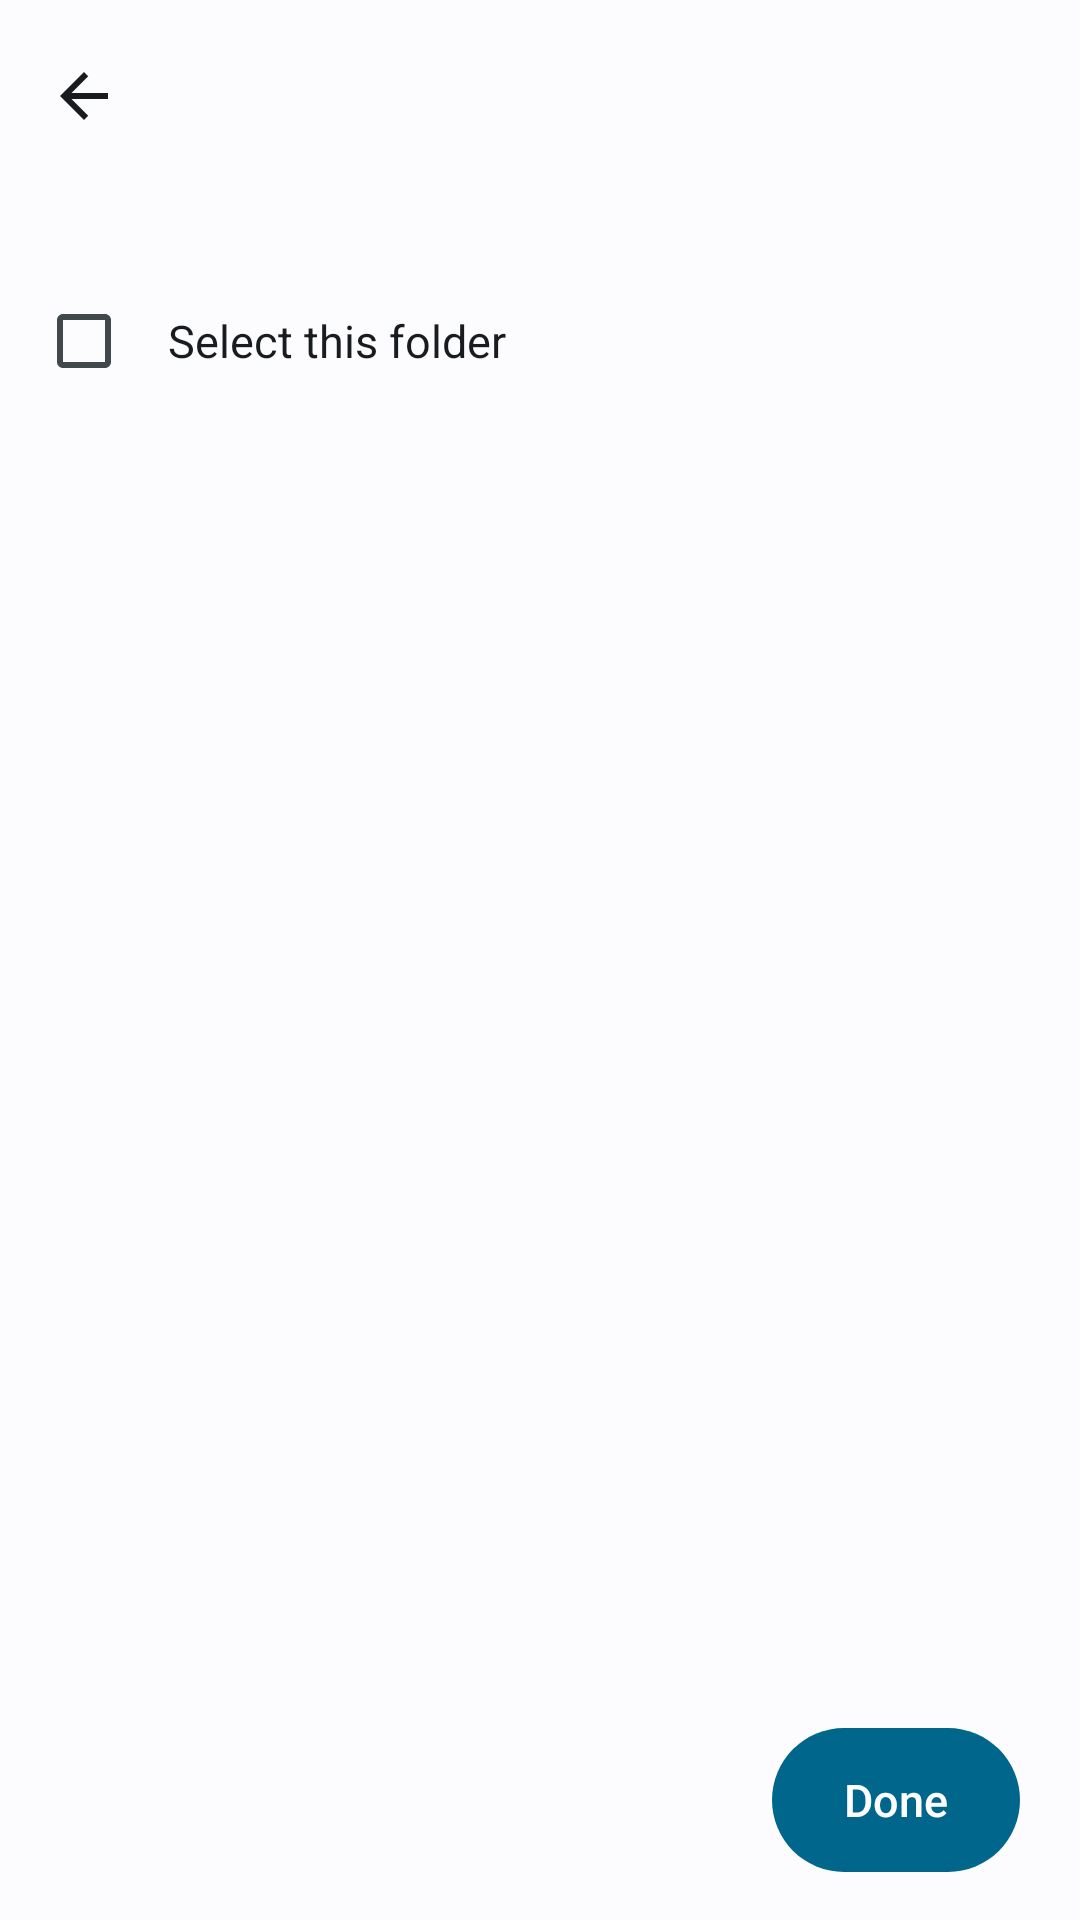

Named icons in this screenshot (1080px x 1920px) and their bounding boxes, [x1,y1,x2,y2]:
Back: [60,72,108,120]
